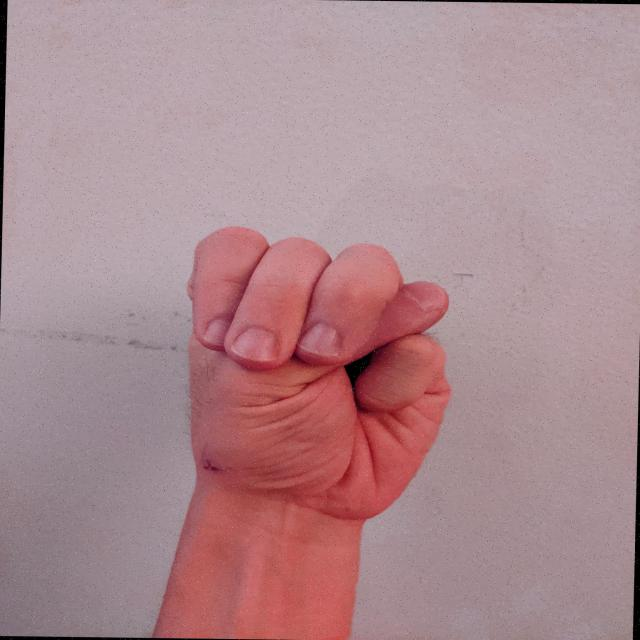M: (171, 219, 462, 526)
